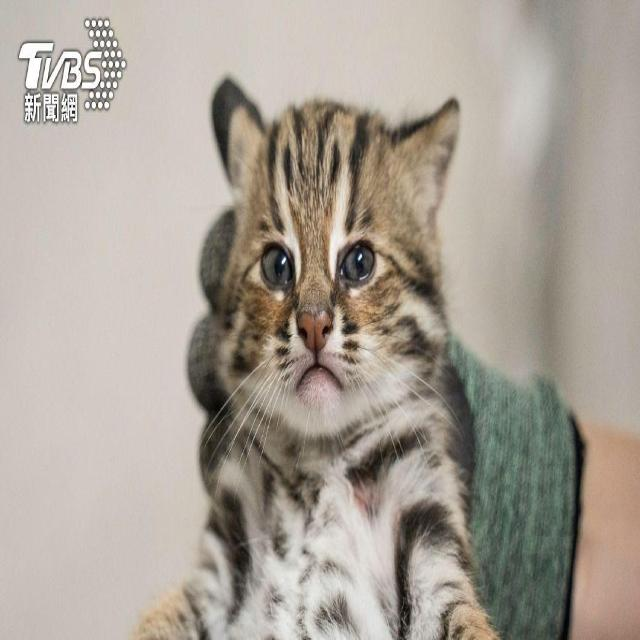leopard: (216, 44, 540, 640)
